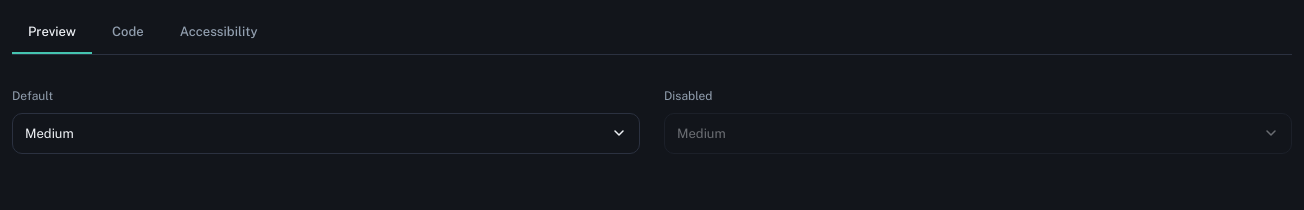
it: SelectDoc › switches to the Code tab and shows Select snippets
Click the tab "Code".
click(128, 33)  # box x1=96 y1=12 x2=160 y2=54
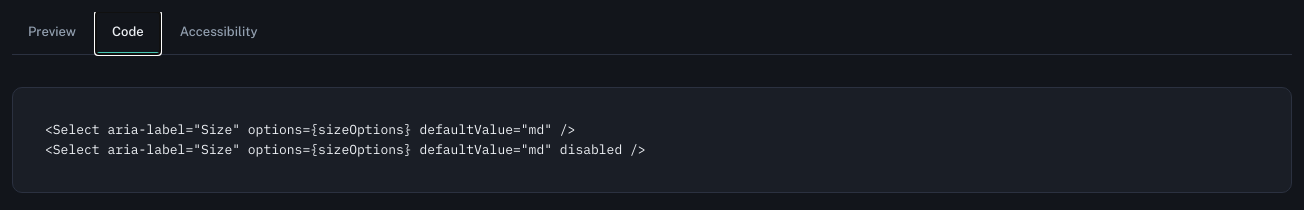
Expected: the text "disabled" is shown, x1=45 y1=120 x2=646 y2=158
